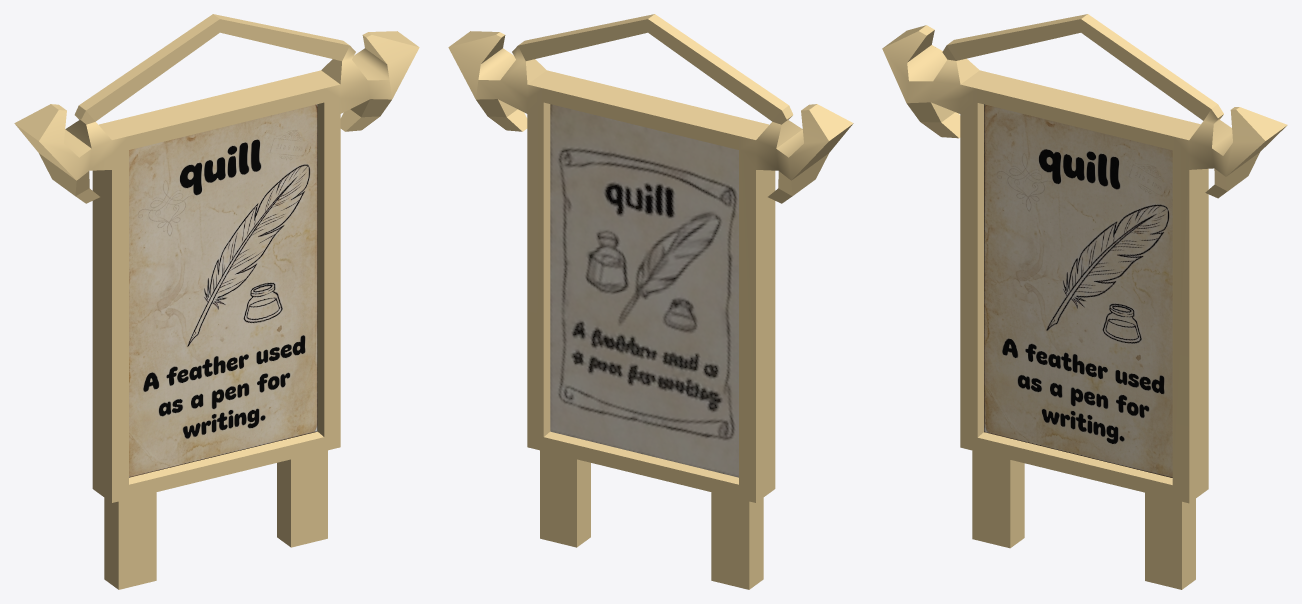
The model's file is quill.fbx.
3 views of the same model, side by side, from view 1: azimuth 30°, elevation 25°; view 2: azimuth 150°, elevation 25°; view 3: azimuth 330°, elevation 25° (orthographic).
Parts seen in each view (by area): view 1: quill; view 2: quill; view 3: quill.
Boxes of the visible parts, x1=… form: quill: x1=14, y1=14, x2=419, y2=589; quill: x1=448, y1=14, x2=853, y2=589; quill: x1=882, y1=14, x2=1287, y2=589.
Size of the model in its own units: 6.69 by 9.09 by 1.16.
